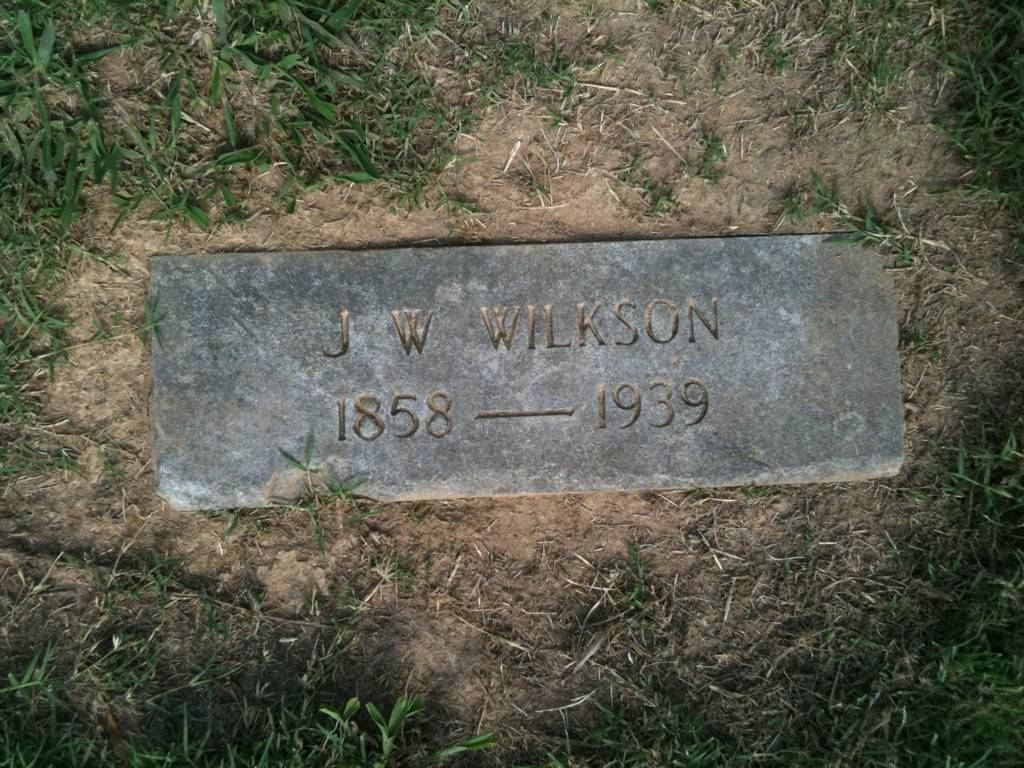flat: (87, 221, 985, 522)
